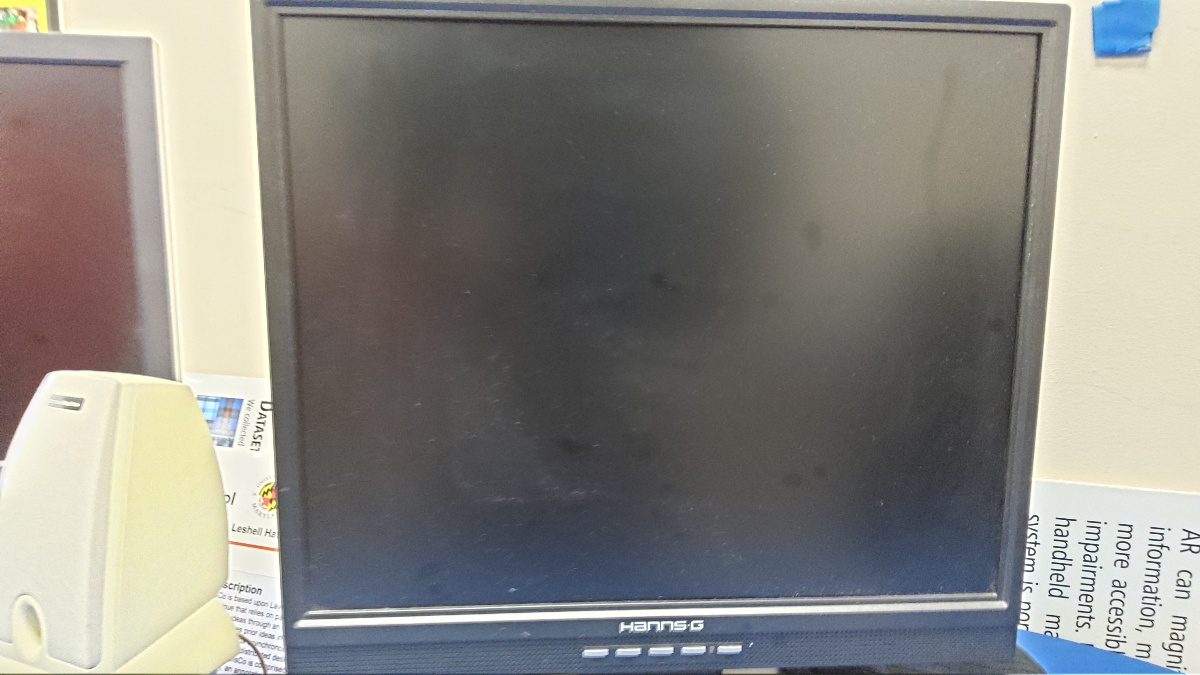monitor: (235, 2, 1076, 675)
